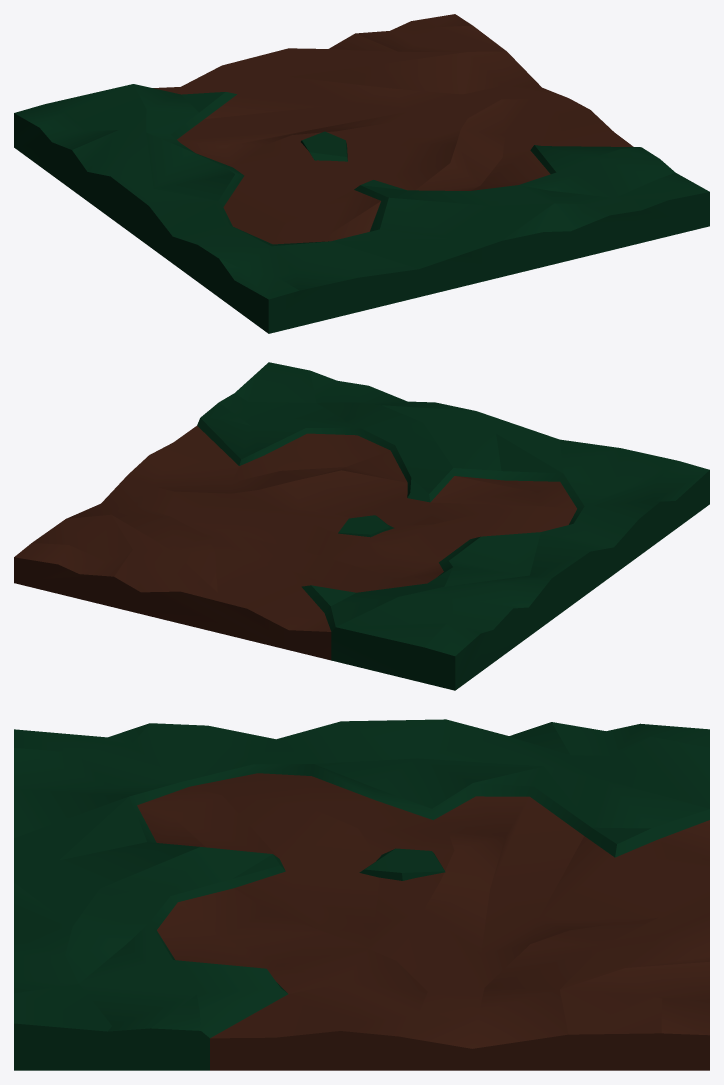
Rendered from Ground_Corner_Internal_LB.fbx.
3 views of the same model, one above another, from view 1: azimuth 30°, elevation 25°; view 2: azimuth 150°, elevation 25°; view 3: azimuth 270°, elevation 25° (orthographic). The views are drawn at different scales.
Visible parts, largest first — view 1: Ground_Corner_Internal_LB; view 2: Ground_Corner_Internal_LB; view 3: Ground_Corner_Internal_LB.
Part boxes in pixels (left/top/right/bottom): Ground_Corner_Internal_LB: left=14, top=14, right=709, bottom=333; Ground_Corner_Internal_LB: left=14, top=362, right=709, bottom=690; Ground_Corner_Internal_LB: left=14, top=719, right=709, bottom=1070.
Bounding box in the file's own units: 147 × 14.26 × 147.
